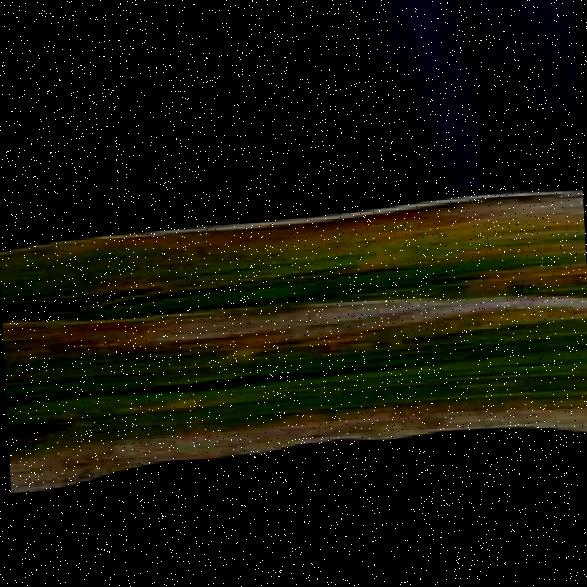Bacteria_Leaf_Blight: (9, 189, 587, 467)
